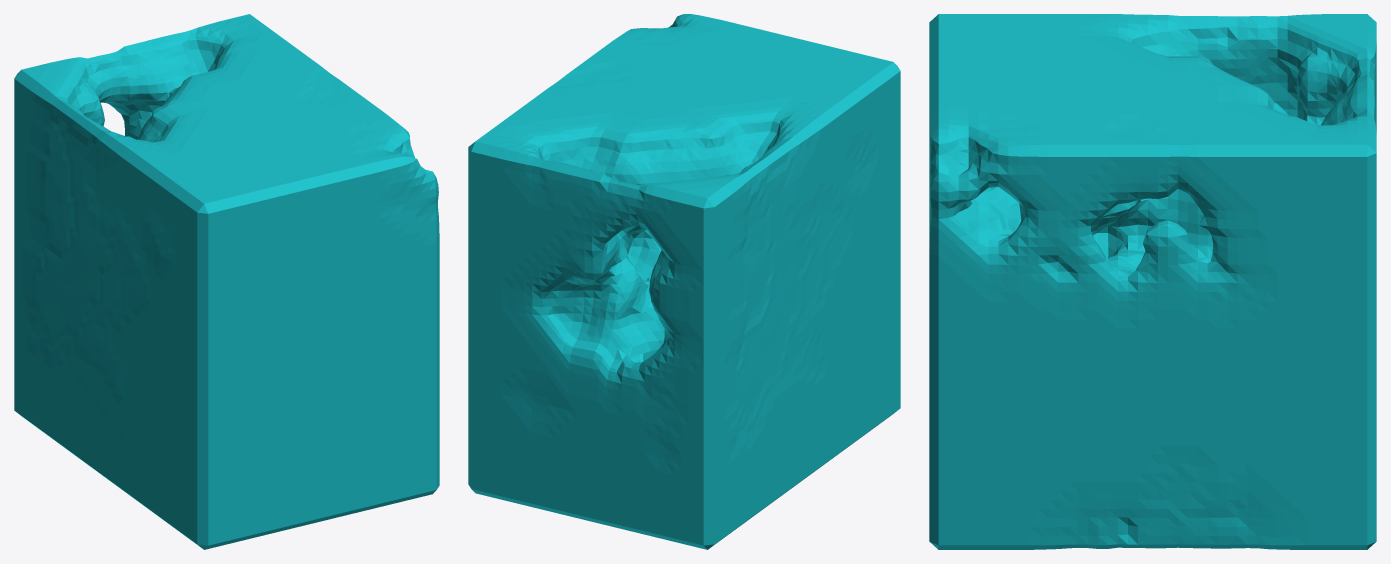
3 renders of one model, left to right at view 1: azimuth 30°, elevation 25°; view 2: azimuth 150°, elevation 25°; view 3: azimuth 270°, elevation 25°, orthographic. The views are drawn at different scales.
Visible parts, largest first — view 1: Liquid_Domain; view 2: Liquid_Domain; view 3: Liquid_Domain.
Boxes of the visible parts, x1=… form: Liquid_Domain: x1=14, y1=14, x2=439, y2=549; Liquid_Domain: x1=468, y1=14, x2=900, y2=549; Liquid_Domain: x1=929, y1=14, x2=1376, y2=549.
Bounding box in the file's own units: 79.09 × 108 × 108.
